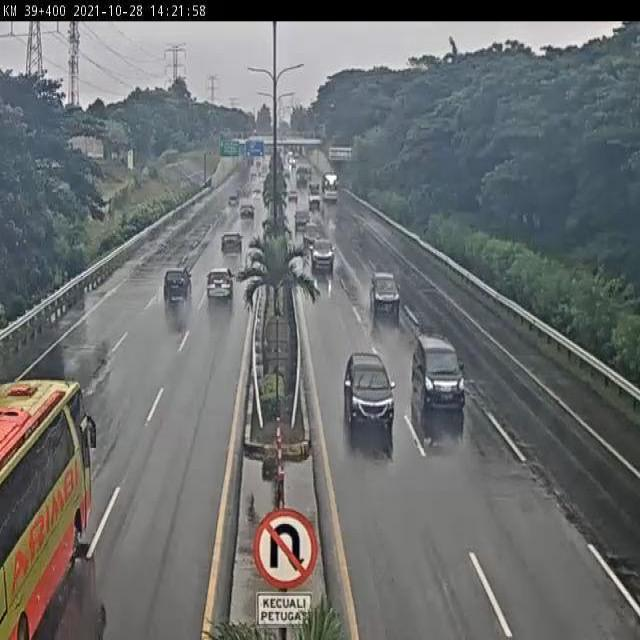big bus: (0, 377, 93, 640)
car: (409, 326, 470, 418), (342, 351, 397, 432), (367, 266, 404, 318), (163, 267, 194, 304), (205, 266, 236, 302), (311, 235, 337, 273), (220, 231, 244, 257)
